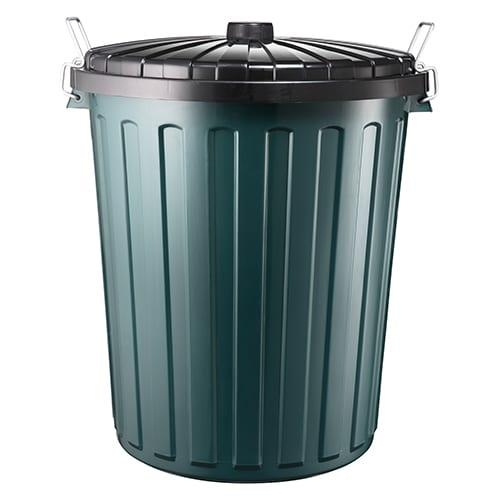trash bin: (54, 4, 452, 486)
